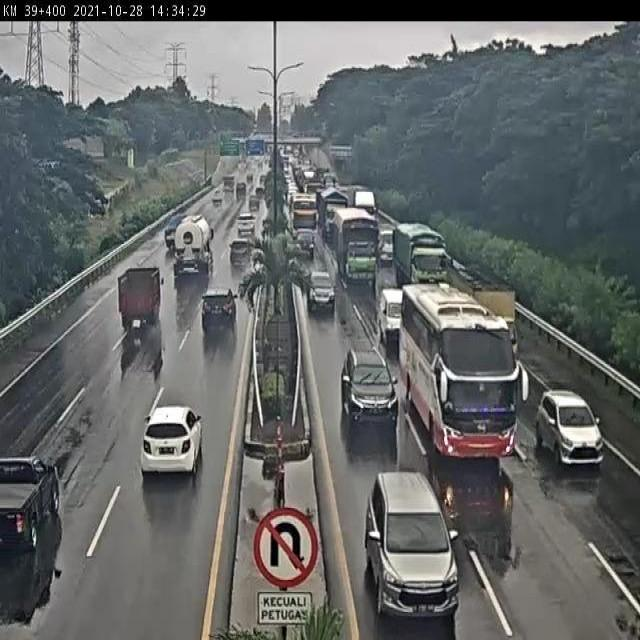big bus: (401, 284, 523, 464)
big truck: (390, 224, 445, 297), (334, 205, 381, 284), (172, 216, 217, 279)
car: (362, 474, 460, 622), (532, 389, 608, 472), (139, 406, 209, 478), (341, 348, 399, 433), (376, 282, 414, 346), (201, 286, 240, 330), (306, 271, 337, 320), (291, 225, 317, 260), (225, 244, 250, 276), (232, 217, 256, 247)
small truck: (472, 282, 521, 374), (119, 267, 167, 328)
